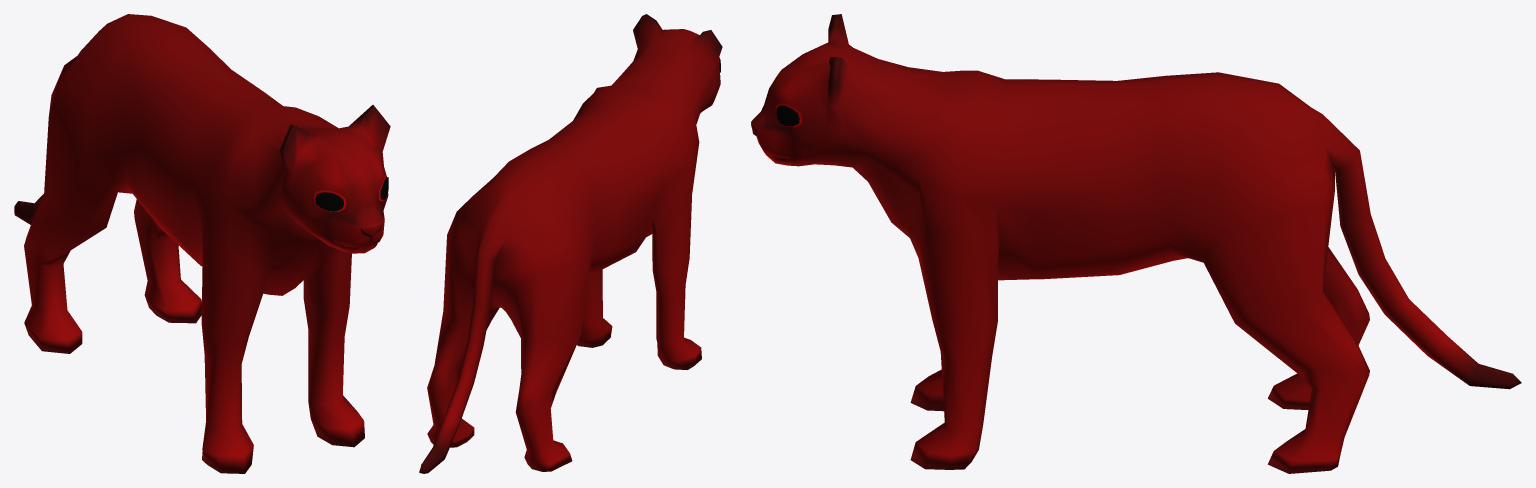
File: Animals_MountainLion.fbx
3 renders of one model, left to right at view 1: azimuth 30°, elevation 25°; view 2: azimuth 150°, elevation 25°; view 3: azimuth 270°, elevation 25°, orthographic. The views are drawn at different scales.
Parts seen in each view (by area): view 1: base; view 2: base; view 3: base.
Boxes of the visible parts, box(x1,y1,x2,y2) form: base: box(14, 14, 390, 473); base: box(419, 14, 722, 473); base: box(751, 14, 1521, 473).
Size of the model in its own units: 46.33 by 101 by 178.
